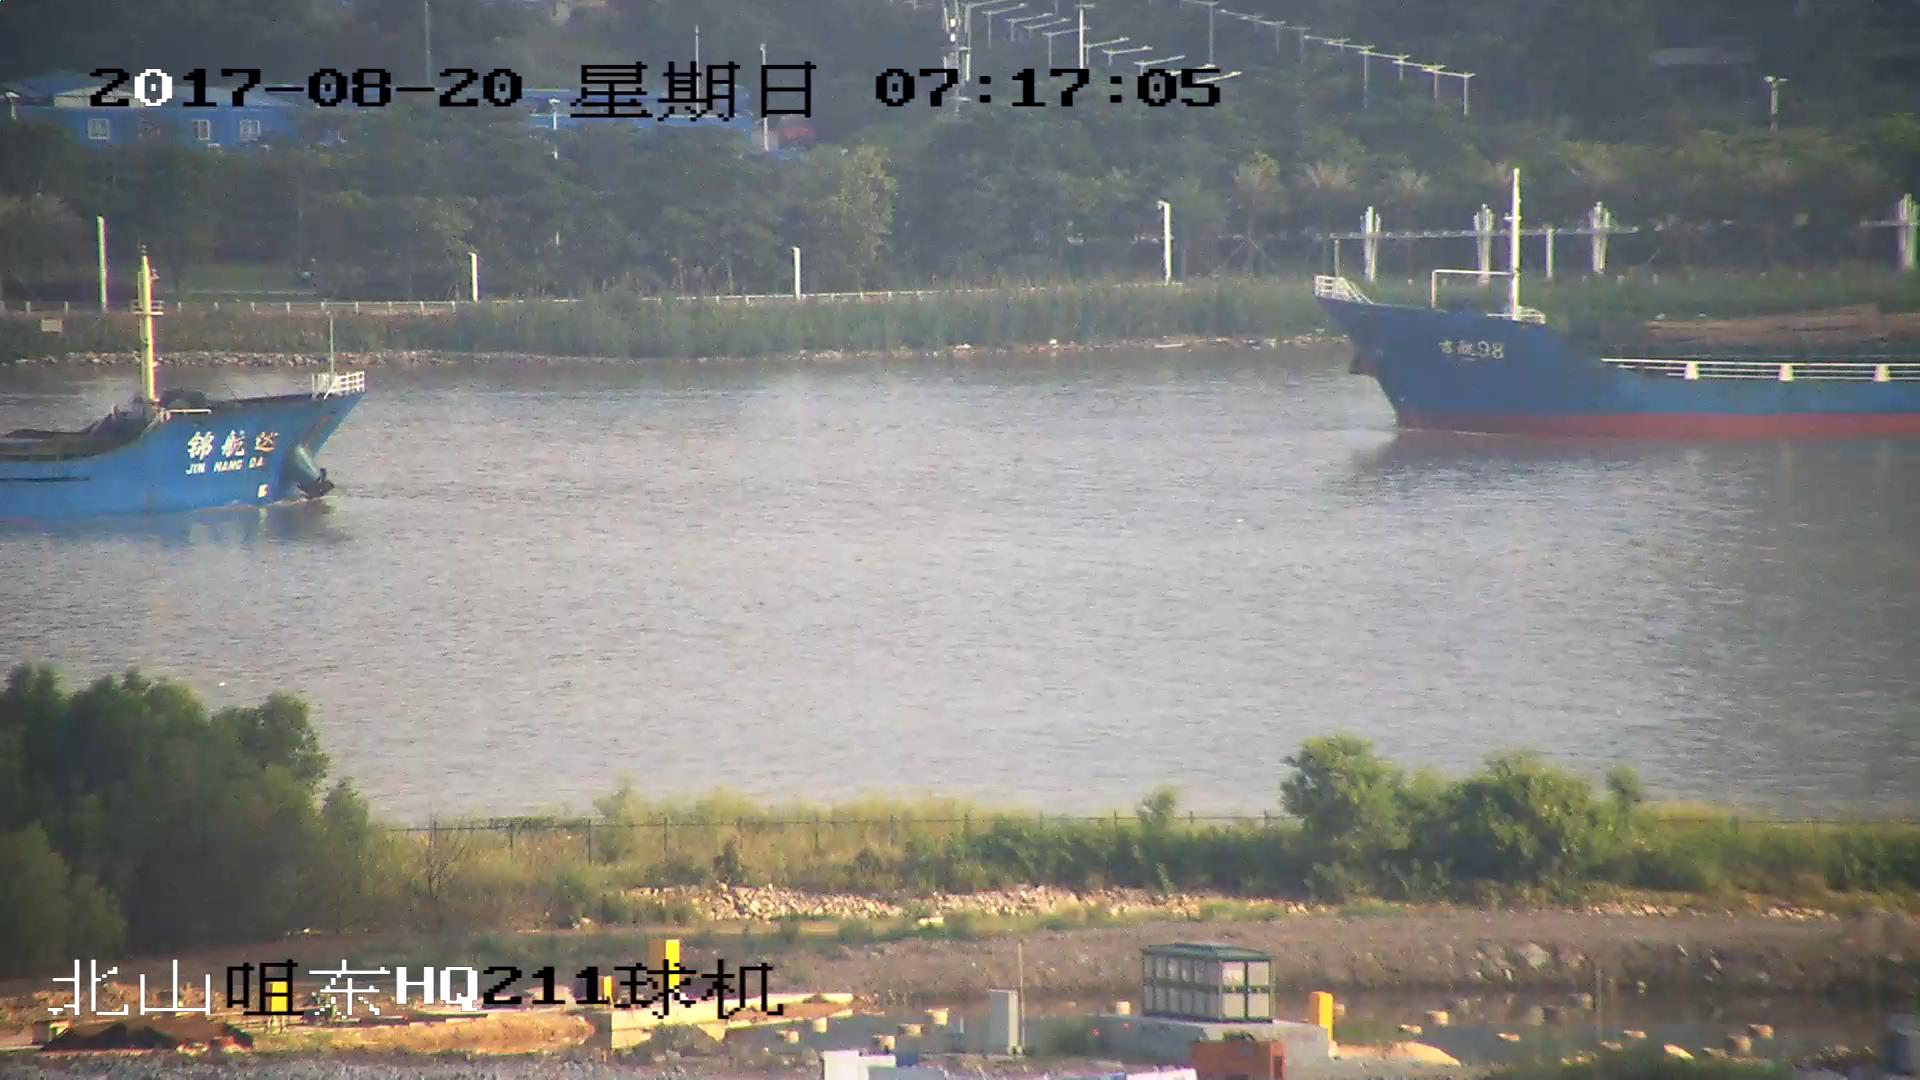general cargo ship: (1319, 178, 1920, 446), (1, 270, 377, 528)
